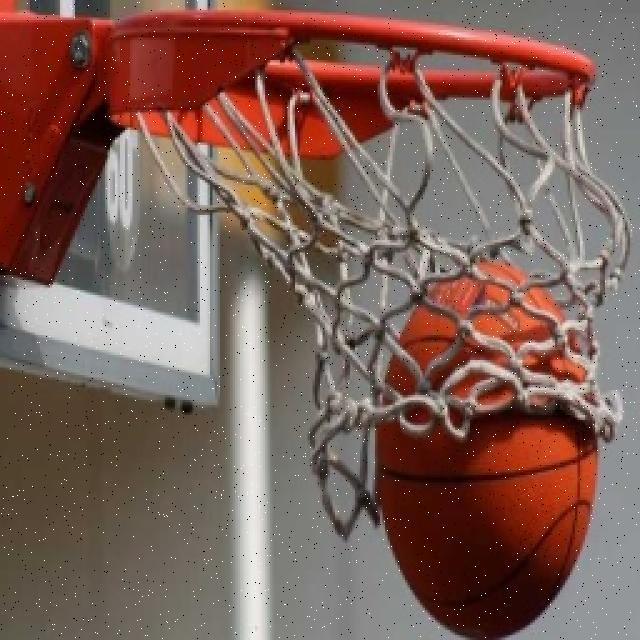ball: (370, 256, 602, 640)
hoop: (107, 5, 608, 145)
